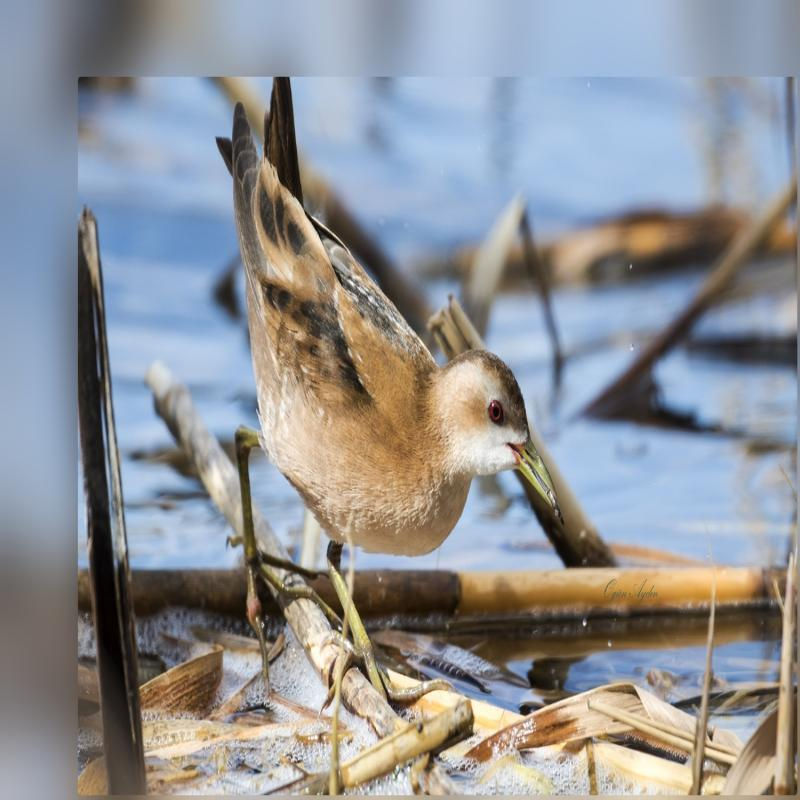little crake: (214, 76, 566, 565)
